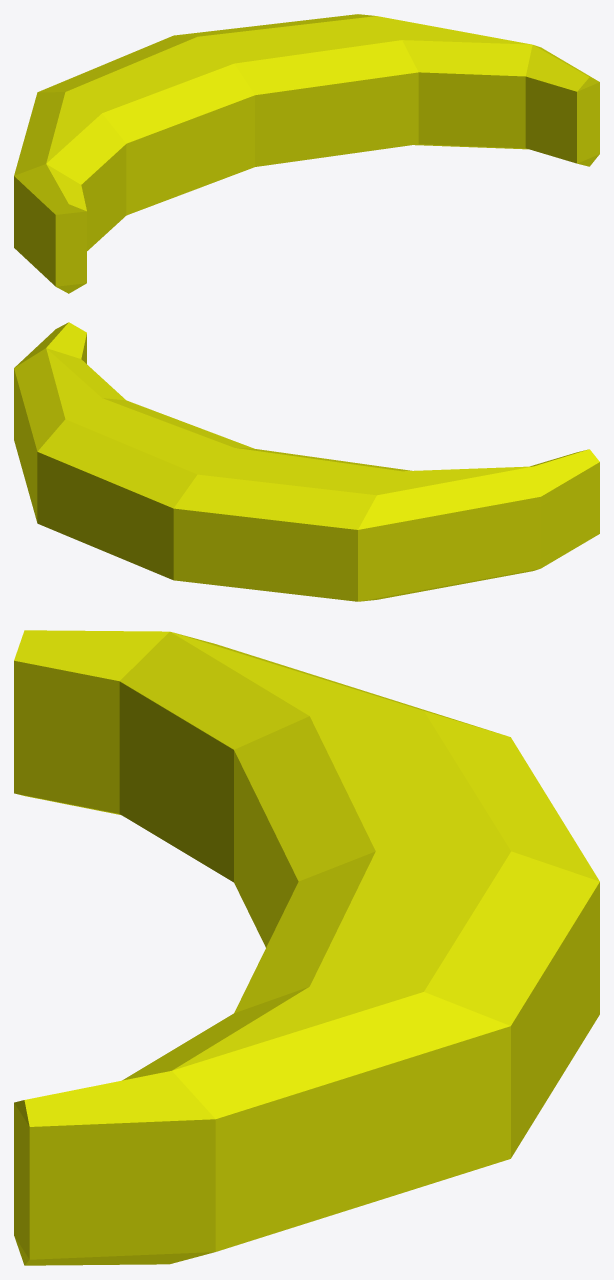
The model's file is banana.fbx.
The picture shows the model from 3 angles, top to bottom: view 1: azimuth 30°, elevation 25°; view 2: azimuth 150°, elevation 25°; view 3: azimuth 270°, elevation 25°; orthographic projection. The views are drawn at different scales.
Visible parts, largest first — view 1: Cube; view 2: Cube; view 3: Cube.
Part boxes in pixels (left/top/right/bottom): Cube: left=14, top=14, right=599, bottom=293; Cube: left=14, top=322, right=599, bottom=601; Cube: left=14, top=630, right=599, bottom=1265.
Size of the model in its own units: 87.36 by 16.04 by 44.09.
